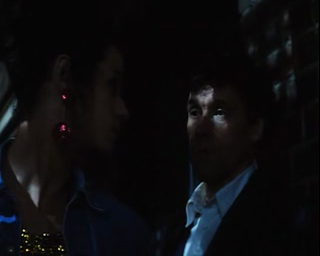cu: (1, 1, 320, 256)
face: (185, 90, 240, 179)
person: (182, 51, 318, 256)
